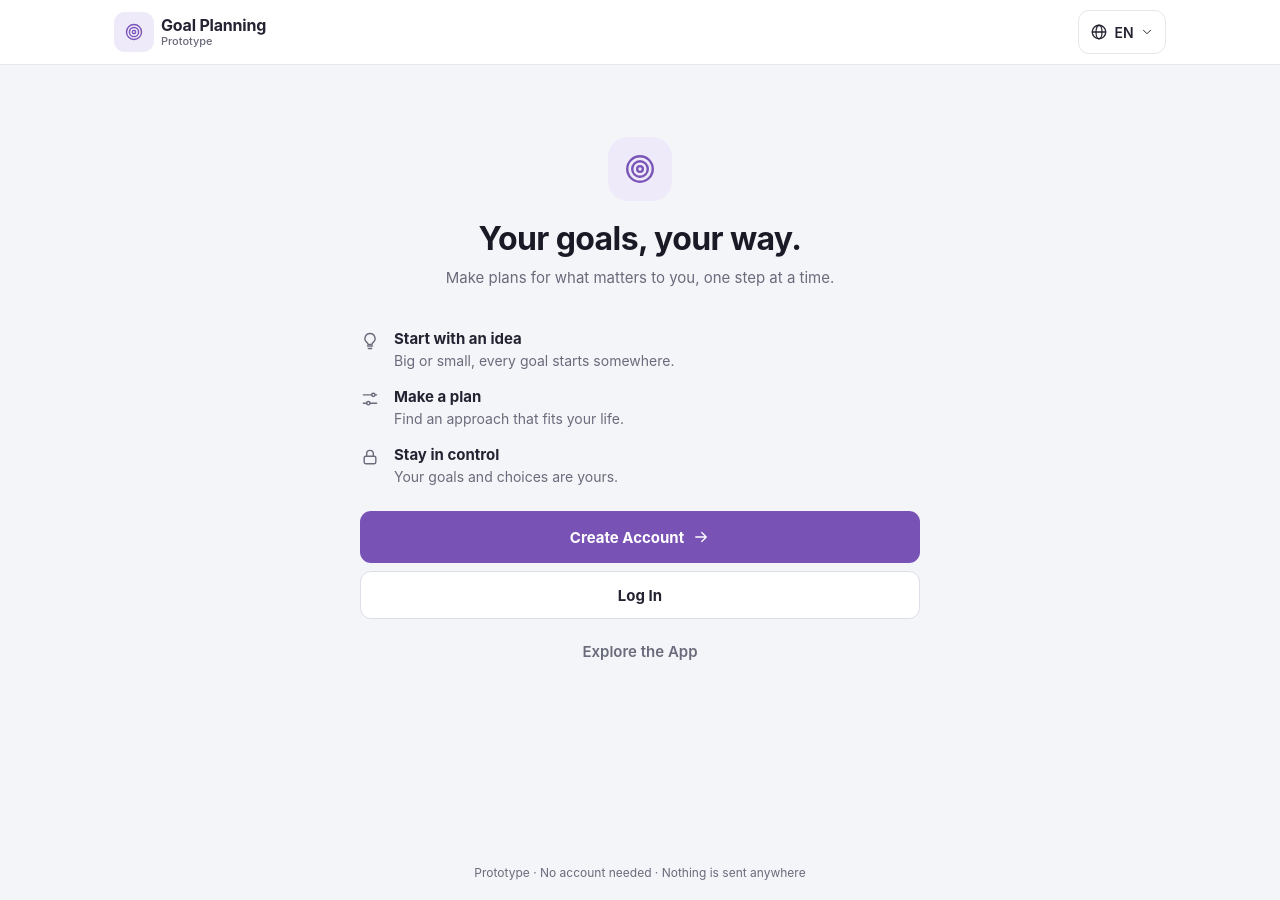
Test case: Sidebar on wide screens › keeps identity and Settings in the header, with Add in its own row
The image size is (1280, 900).
Click the button "Explore the App" at (640, 651), box [360, 627, 920, 675]
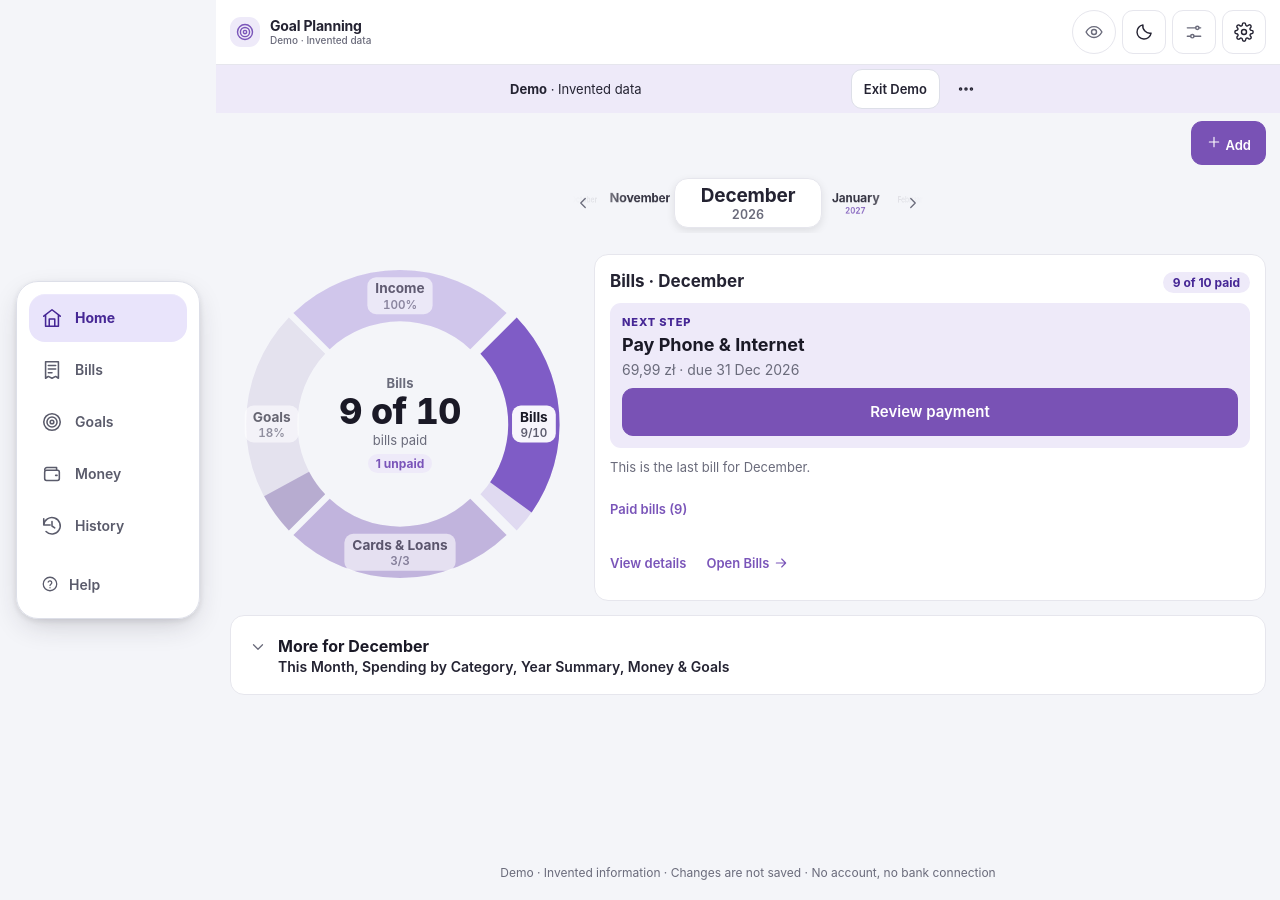
Now the button with aria-label "Go to Home" is shown, box [230, 10, 377, 54]
Now the number of buttons named "Settings" is 1, box [1222, 10, 1266, 54]
Now the button "Add" is shown, box [1191, 121, 1266, 165]
